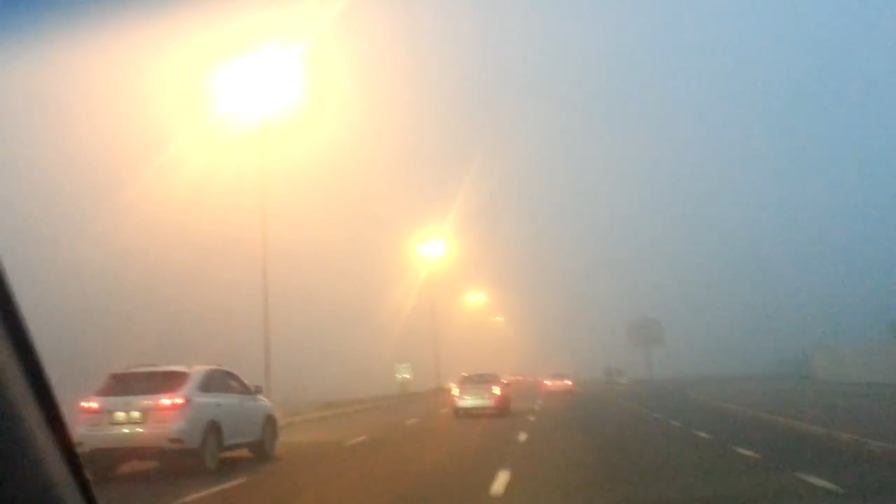car: (58, 359, 280, 481), (449, 372, 512, 419), (539, 370, 574, 396)
